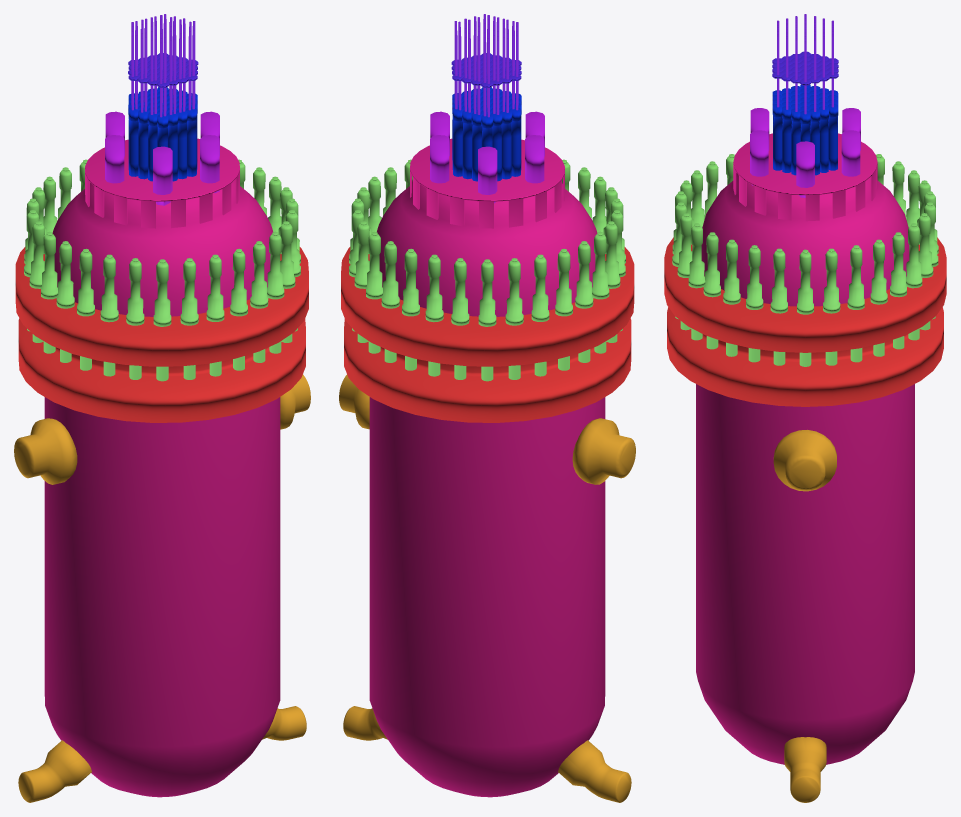
Rendered from reactor_8052_autosave.fbx.
The picture shows the model from 3 angles, left to right: view 1: azimuth 30°, elevation 25°; view 2: azimuth 150°, elevation 25°; view 3: azimuth 270°, elevation 25°; orthographic projection. The views are drawn at different scales.
Parts seen in each view (by area): view 1: Cylinder.005; view 2: Cylinder.005; view 3: Cylinder.005.
Boxes of the visible parts, box(x1,y1,x2,y2) form: Cylinder.005: box(14, 14, 310, 802); Cylinder.005: box(339, 14, 635, 802); Cylinder.005: box(664, 14, 946, 802).
Size of the model in its own units: 188 by 486 by 170.
